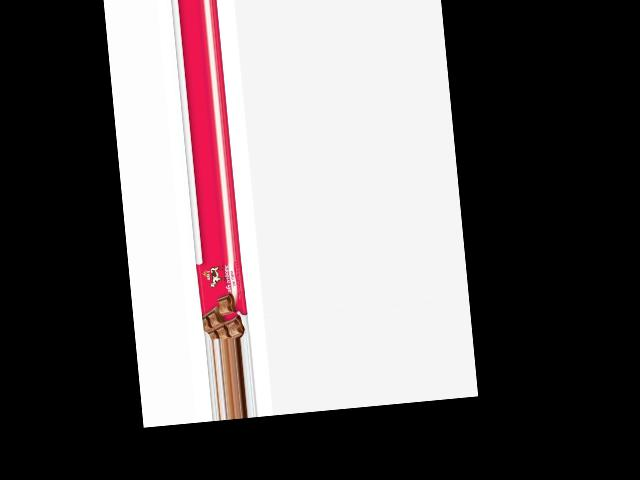chocolate: (196, 258, 249, 340)
